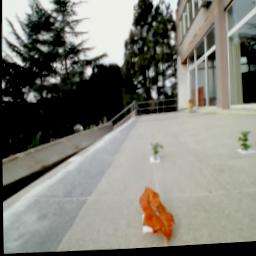herb: (237, 133, 252, 157), (150, 144, 165, 164)
wild: (139, 187, 177, 249)
